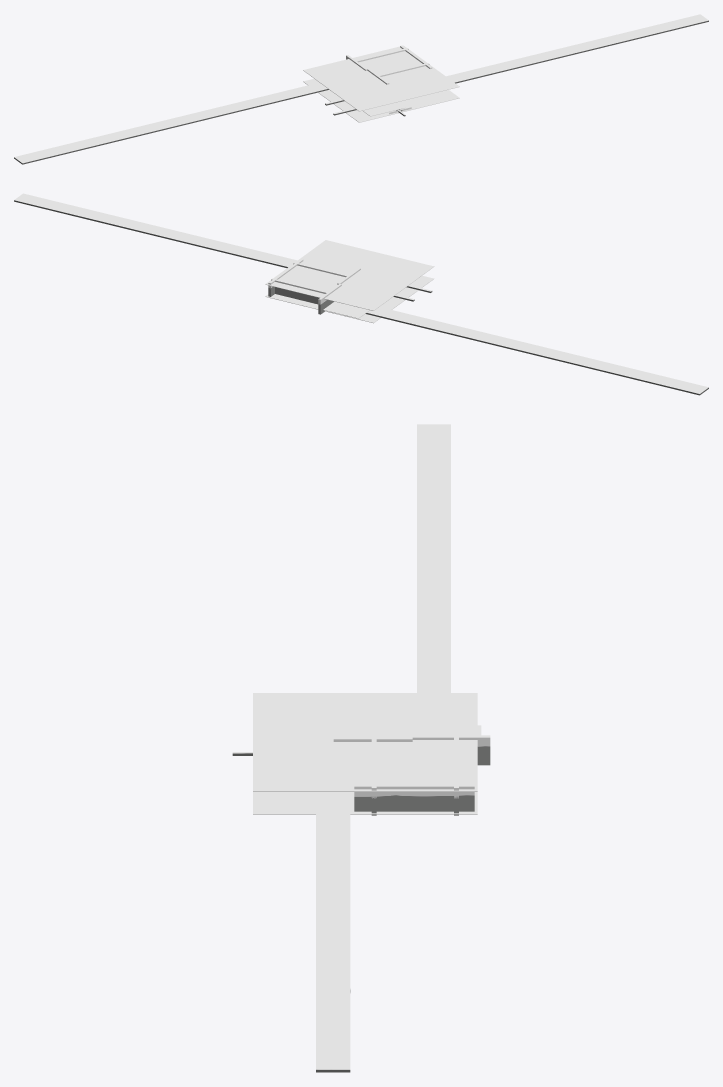
File: Fac_2.obj
3 renders of one model, top to bottom at view 1: azimuth 30°, elevation 25°; view 2: azimuth 150°, elevation 25°; view 3: azimuth 270°, elevation 25°, orthographic. The views are drawn at different scales.
Visible parts, largest first — view 1: Floor5, FacM_Cube_012, FacM_Cube_011, Floor4, Floor3; view 2: Floor5, FacM_Cube_012, FacM_Cube_011, Floor4, FacM_Cube_008, Floor3; view 3: Floor5, FacM_Cube_011, FacM_Cube_012, FacM_Cube_005, Floor4.
Boxes of the visible parts, x1,y1,x2,y2 form: Floor5: (303,45,459,111); FacM_Cube_012: (14,82,328,164); FacM_Cube_011: (446,14,708,83); Floor4: (303,78,459,122); Floor3: (363,102,404,116); Floor5: (265,240,434,310); FacM_Cube_012: (365,307,708,395); FacM_Cube_011: (14,193,297,267); Floor4: (265,275,433,323); FacM_Cube_008: (271,278,327,304); Floor3: (323,301,369,318); Floor5: (253,693,477,791); FacM_Cube_011: (316,792,350,1072); FacM_Cube_012: (417,424,450,692); FacM_Cube_005: (354,784,474,811); Floor4: (253,792,477,814).
Size of the model in its own units: 204492 by 4070 by 34515.
